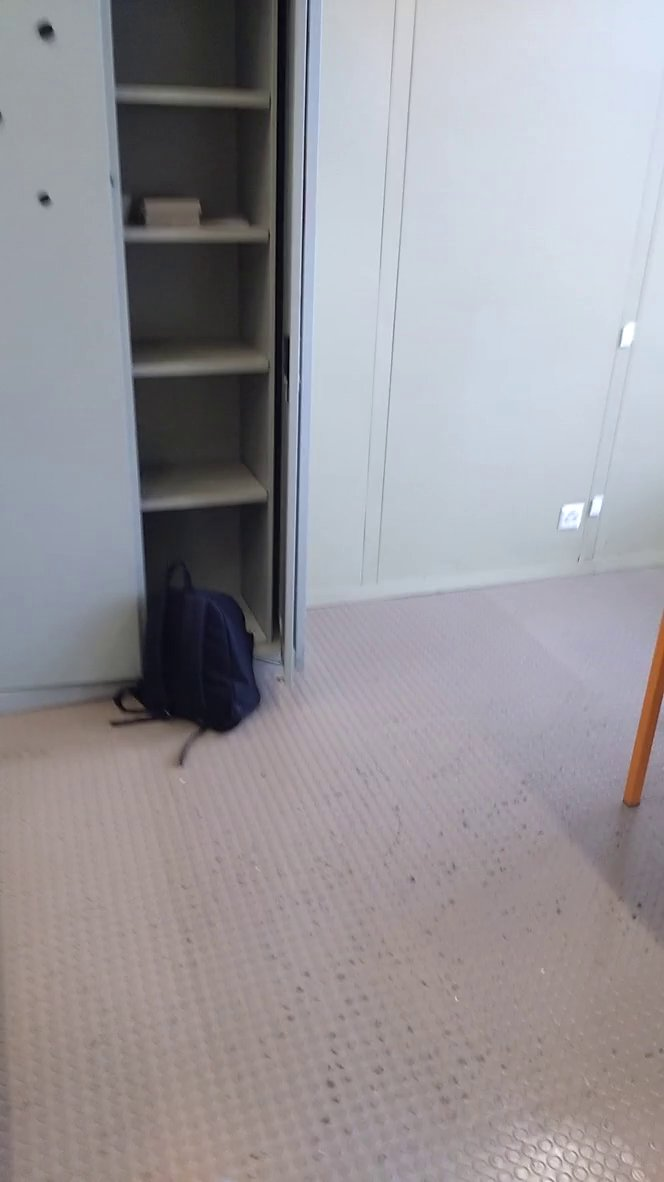bag: (105, 553, 266, 740)
